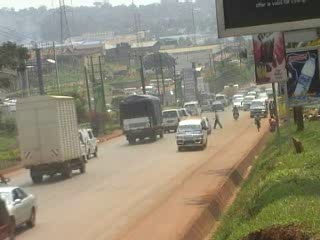Car: (0, 183, 37, 230), (0, 196, 19, 240), (0, 170, 13, 188), (207, 100, 224, 112), (231, 96, 246, 109)
